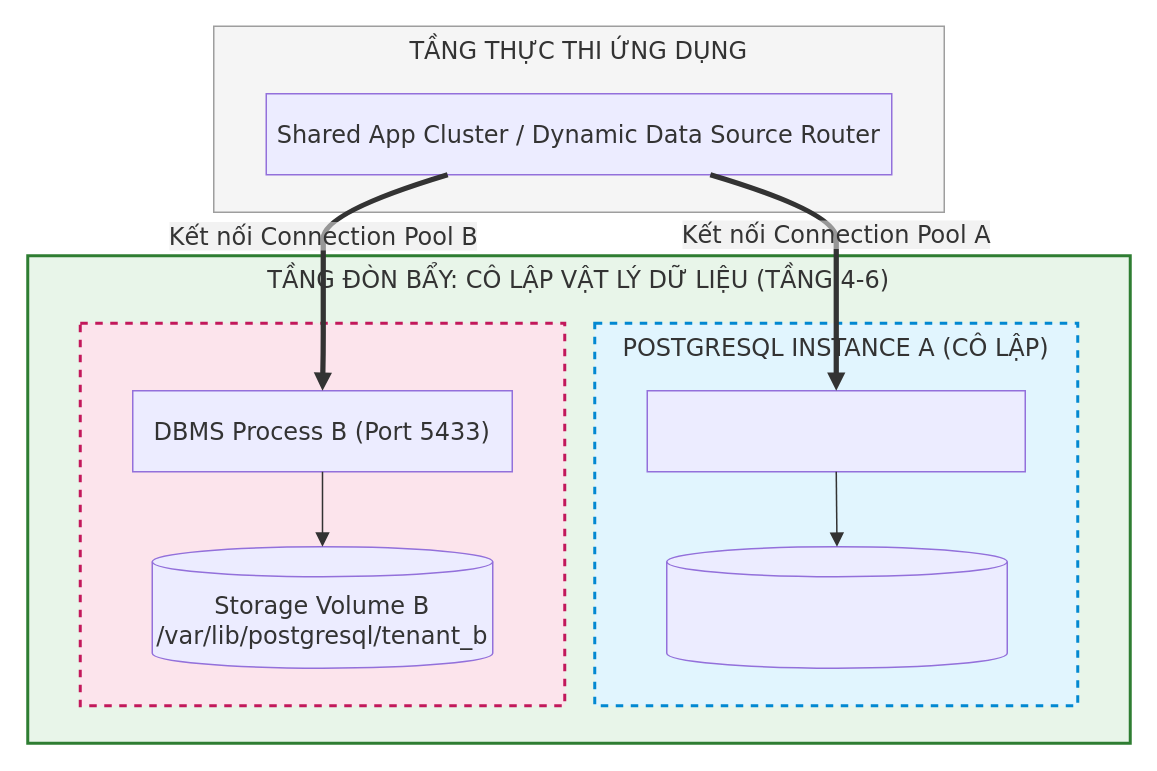
This 1157x771 diagram has some shape labels left out. The box of each missing label's shape, as (x1, y1, x2, y2) in pixels:
DBMS Process A (Port 5432): (646, 389, 1025, 472)
POSTGRESQL INSTANCE B (CÔ LẬP): (78, 321, 566, 706)
Storage Volume A /var/lib/postgresql/tenant_a: (665, 545, 1007, 668)
